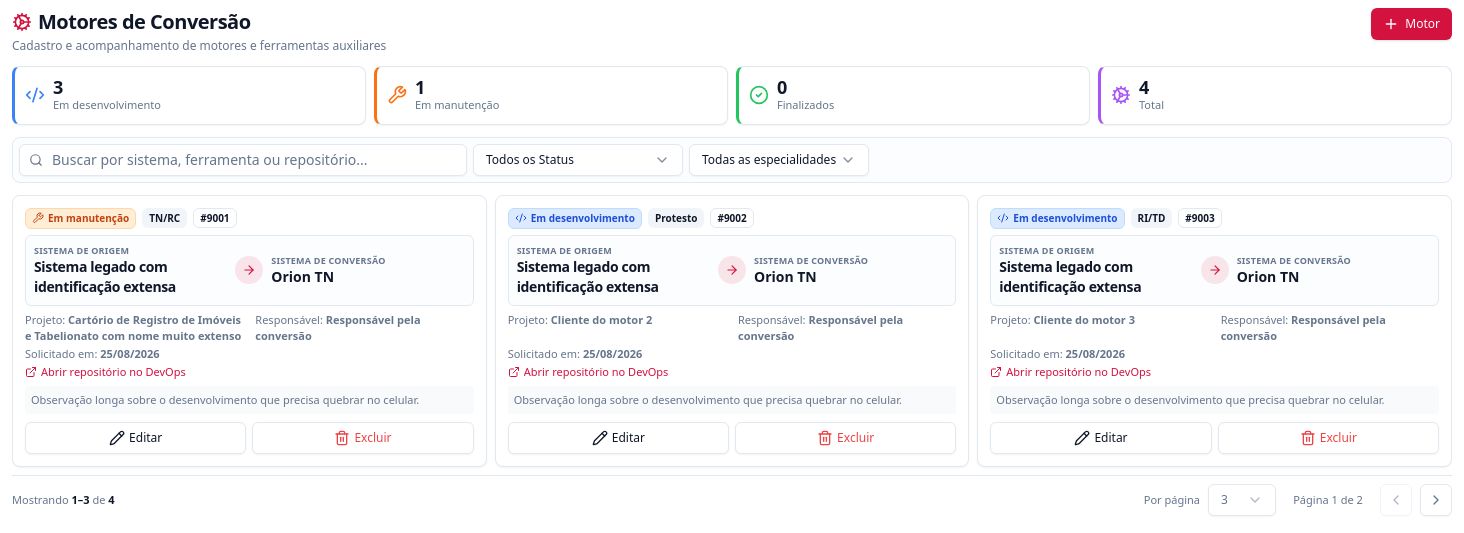
Scenario: Telas de conversão no mobile › pagina motores em blocos de três e mantém os cartões fluidos
Expected: the number of buttons with test id "conversion-engine-card" is 3, left=12, top=194, right=487, bottom=467; left=495, top=194, right=969, bottom=467; left=977, top=194, right=1452, bottom=467
Expected: the dropdown named "Motores por página" reads "3", left=1208, top=484, right=1276, bottom=516
Click the button named "Próxima página de motores".
click(1436, 500)  # box left=1420, top=484, right=1452, bottom=516
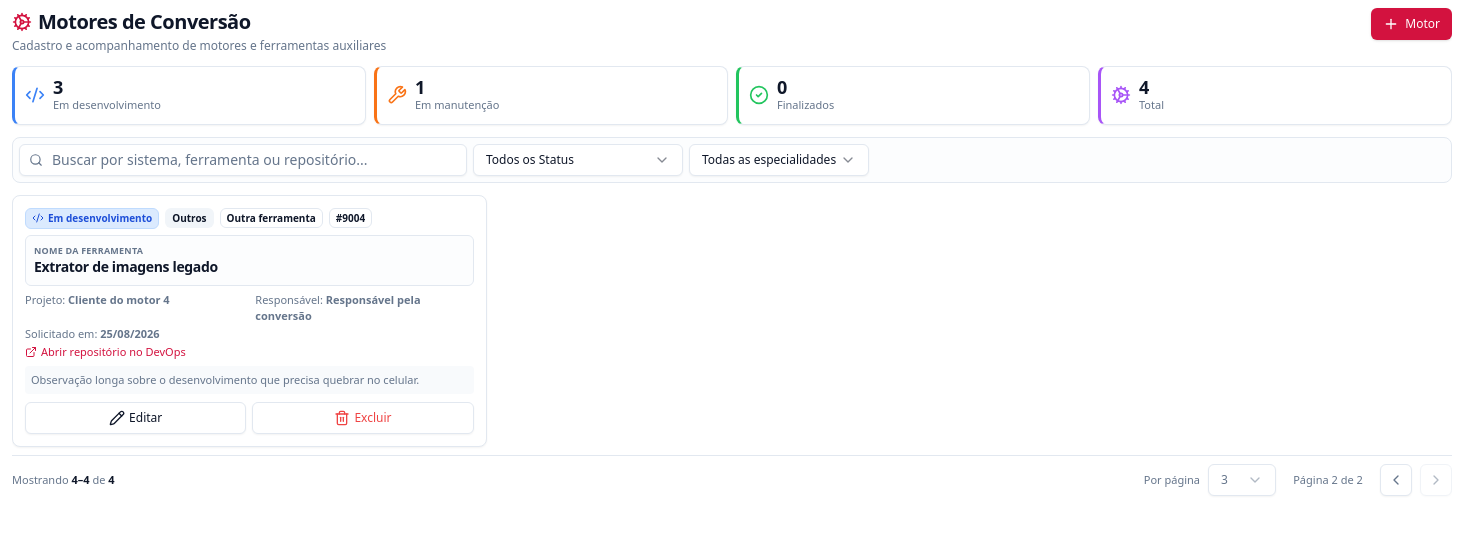
Now the number of buttons with test id "conversion-engine-card" is 1, box left=12, top=194, right=487, bottom=447
Now the text "Página 2 de 2" is shown, box left=1293, top=472, right=1363, bottom=487
Now the text "Outra ferramenta" is shown, box left=220, top=208, right=323, bottom=228
